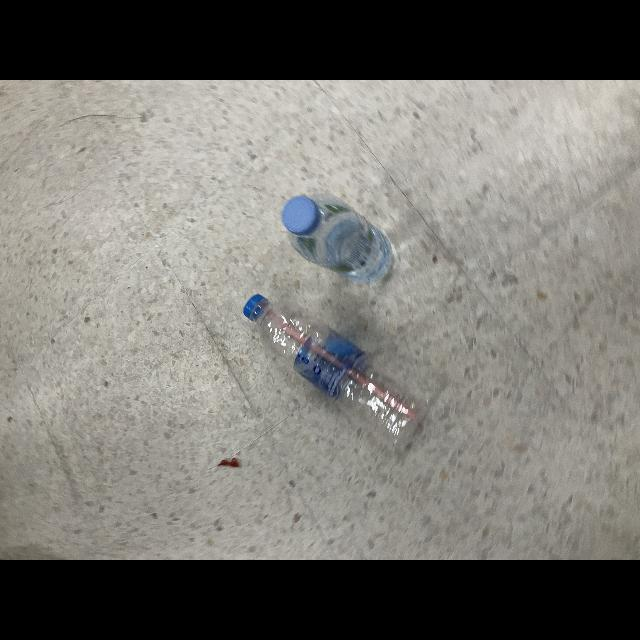plastic_bottle: (243, 292, 429, 454), (284, 192, 394, 284)
plastic_bottle_cap: (284, 196, 320, 238), (244, 290, 272, 322)
